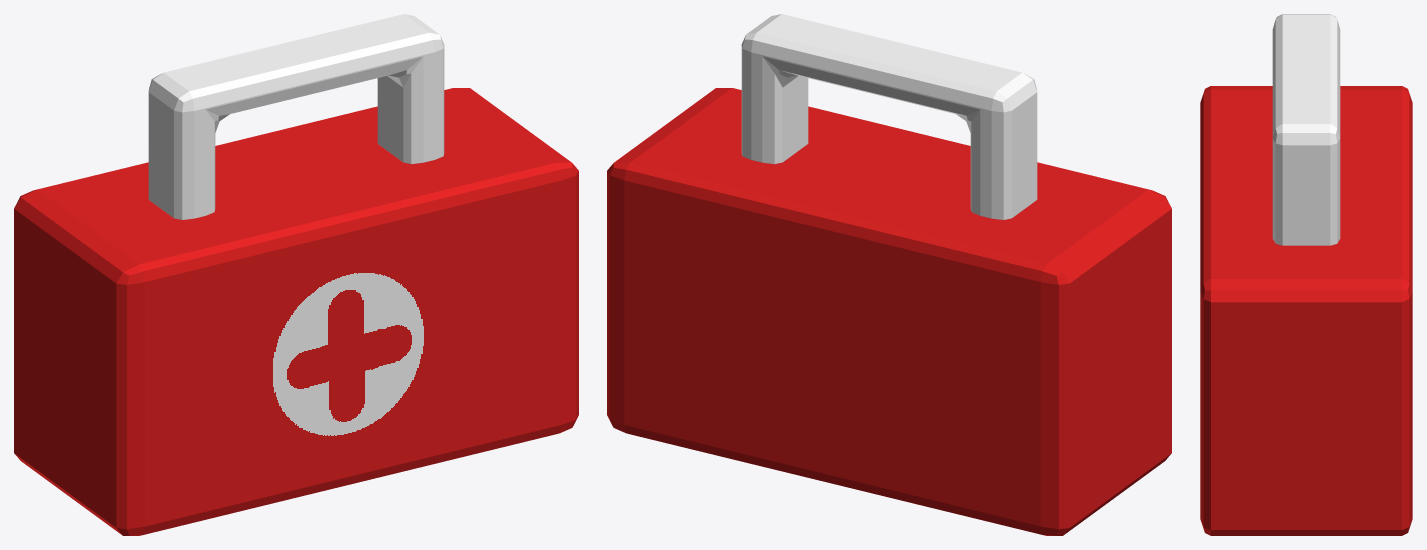
File: healthpack.glb
3 renders of one model, left to right at view 1: azimuth 30°, elevation 25°; view 2: azimuth 150°, elevation 25°; view 3: azimuth 270°, elevation 25°, orthographic. The views are drawn at different scales.
Visible parts, largest first — view 1: Cube; view 2: Cube; view 3: Cube.
Boxes of the visible parts, <box> form: Cube: <box>14,14,578,535</box>; Cube: <box>607,14,1171,535</box>; Cube: <box>1200,14,1412,535</box>.
Size of the model in its own units: 4 by 3.26 by 1.7.
Materials: 1 (1 with a texture image).
